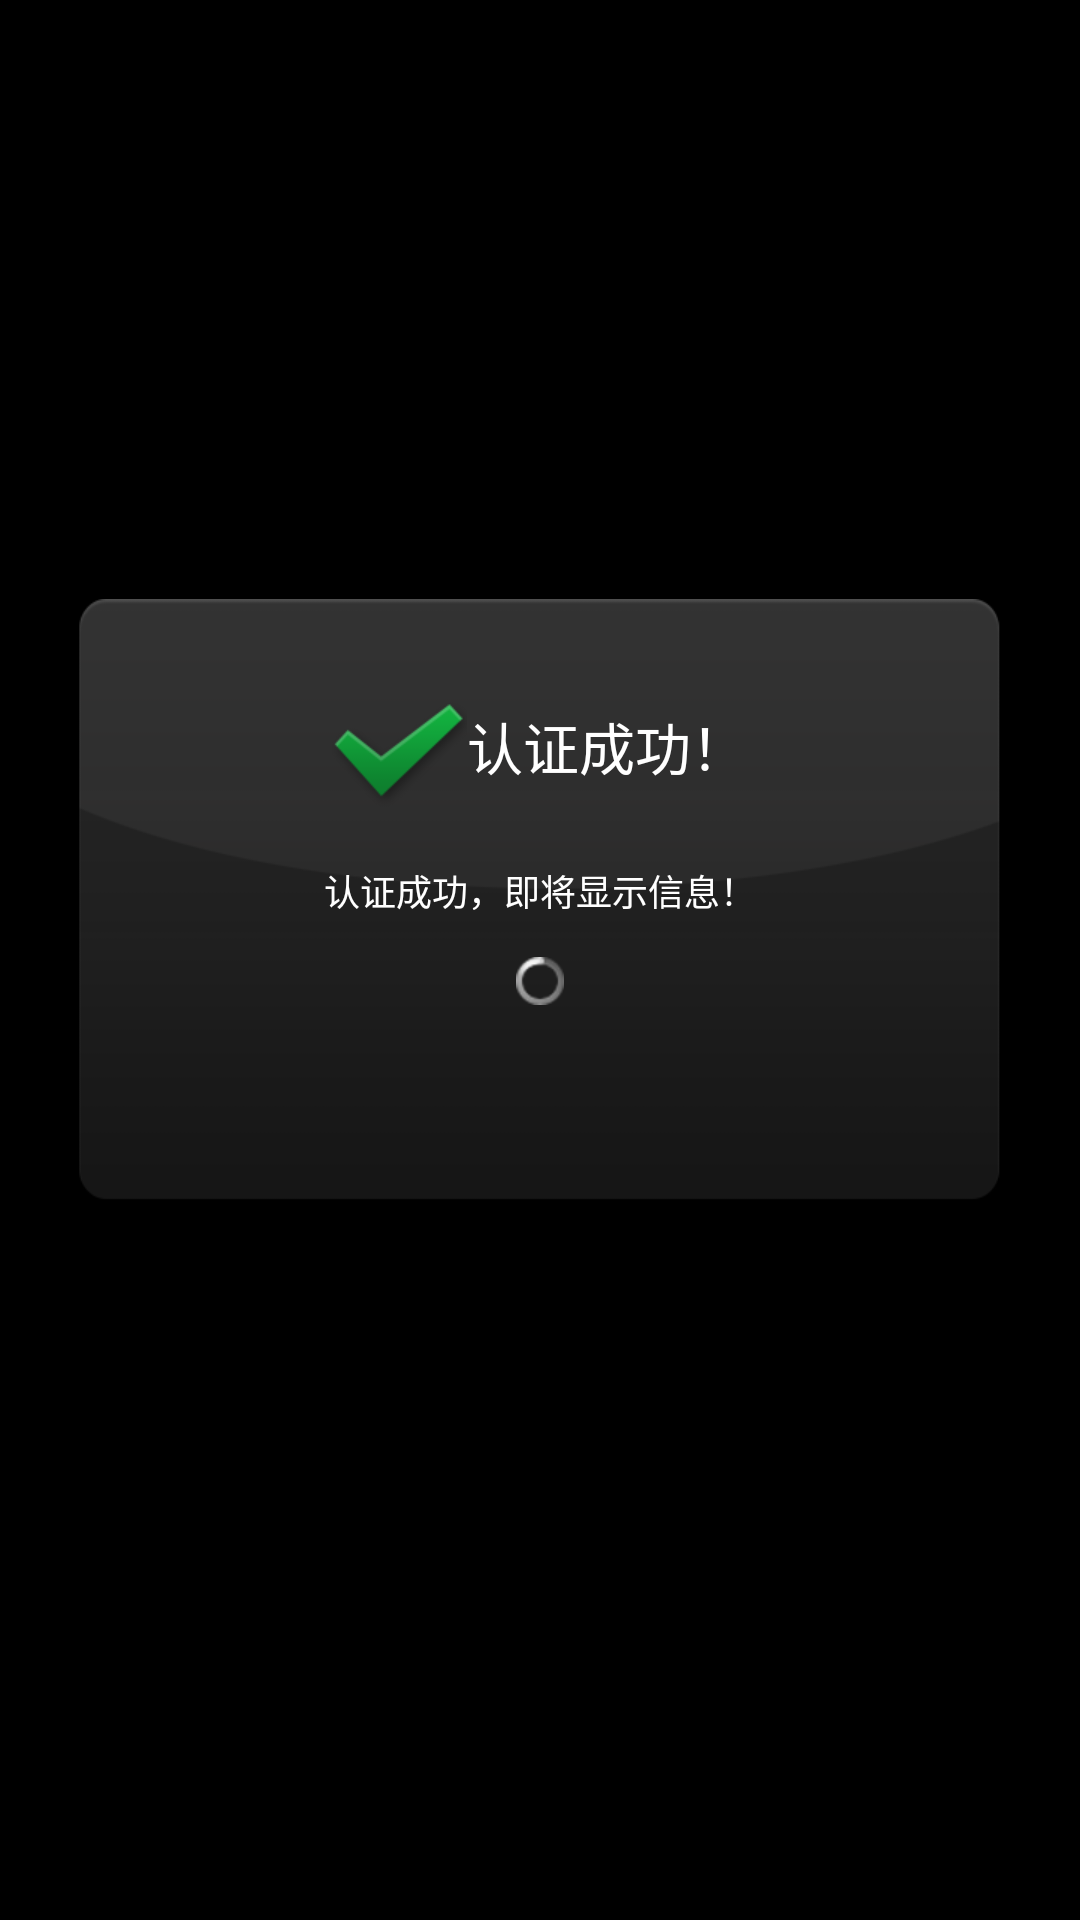

Screen size 1080*1920. Icon name, then its box in pixels as (x1, y1, x2, y2):
succeed tag: (335, 704, 463, 796)
